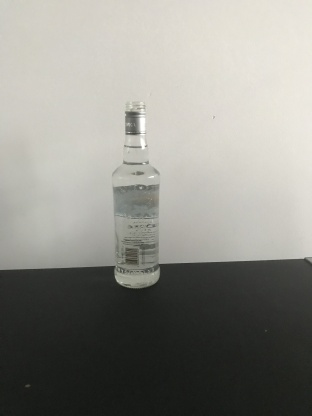nakretka: (123, 99, 147, 137)
